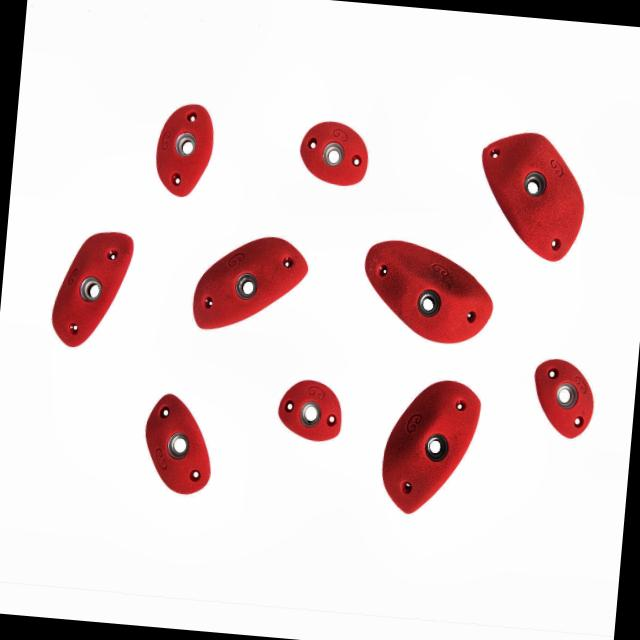Hold: (471, 126, 590, 264), (381, 377, 485, 521), (356, 242, 499, 346), (189, 226, 310, 334), (44, 226, 133, 352), (136, 391, 220, 495), (148, 104, 226, 202), (529, 356, 600, 442), (296, 120, 374, 186), (270, 379, 346, 445)
